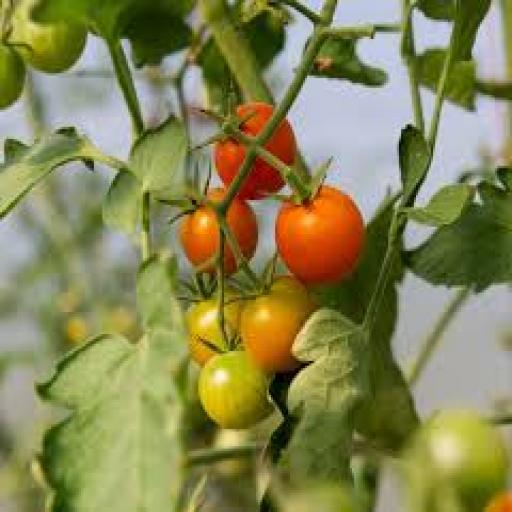tomato: (410, 410, 507, 511), (276, 186, 364, 285), (242, 276, 315, 373), (199, 352, 273, 429), (11, 0, 87, 73), (186, 298, 228, 365), (180, 205, 219, 270), (282, 483, 358, 511), (239, 159, 283, 199), (0, 44, 25, 109), (67, 315, 89, 343), (485, 493, 511, 511)
